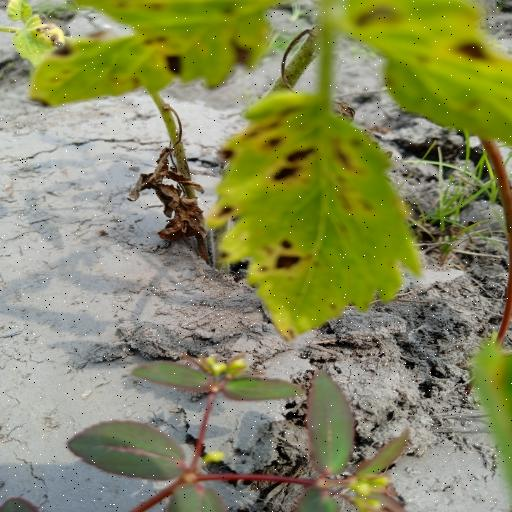Tomato_Brown_Spots: (202, 90, 428, 345)
